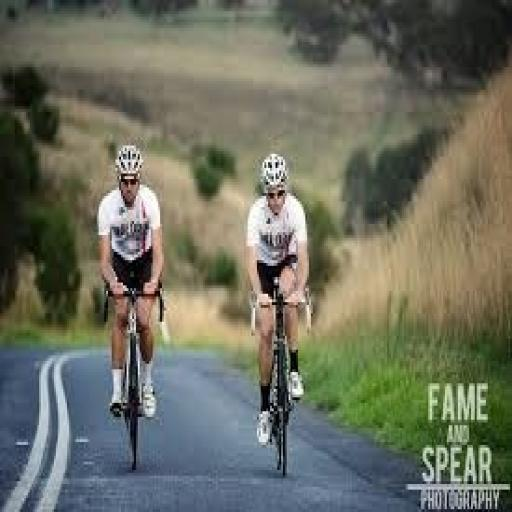cycling: (244, 151, 313, 451), (95, 142, 168, 422)
